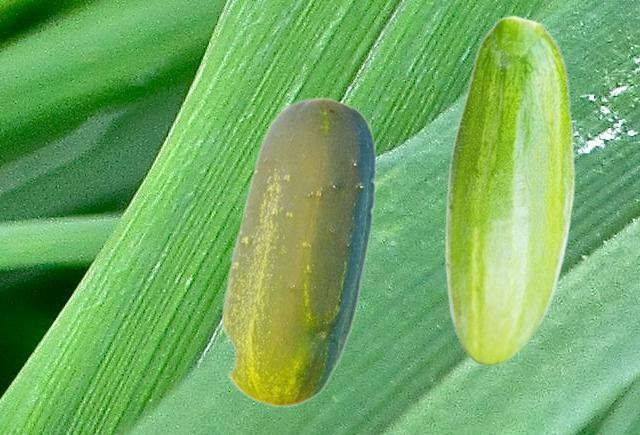cucumber: (220, 96, 375, 407), (444, 15, 574, 365)
